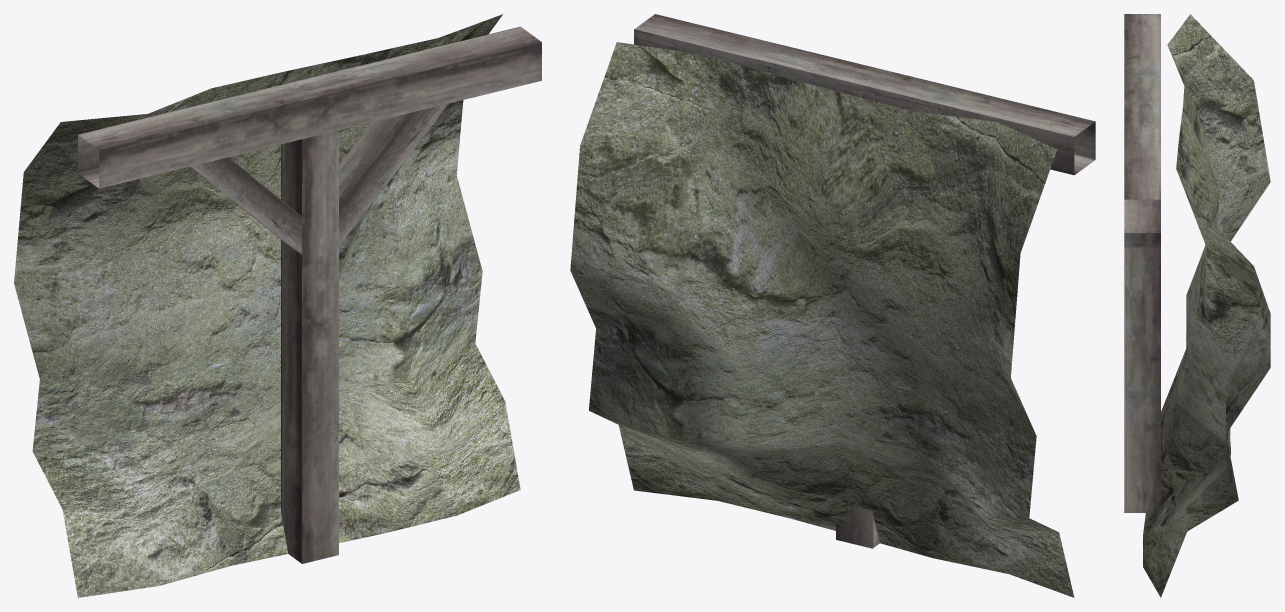
Rendered from Wall_2.FBX.
The picture shows the model from 3 angles, left to right: view 1: azimuth 30°, elevation 25°; view 2: azimuth 150°, elevation 25°; view 3: azimuth 270°, elevation 25°; orthographic projection. The views are drawn at different scales.
Visible parts, largest first — view 1: Wall2; view 2: Wall2; view 3: Wall2.
Boxes of the visible parts, x1,y1,x2,y2 form: Wall2: (14, 14, 541, 597); Wall2: (570, 14, 1095, 597); Wall2: (1124, 14, 1270, 597).
Bounding box in the file's own units: 300 × 300 × 100.
